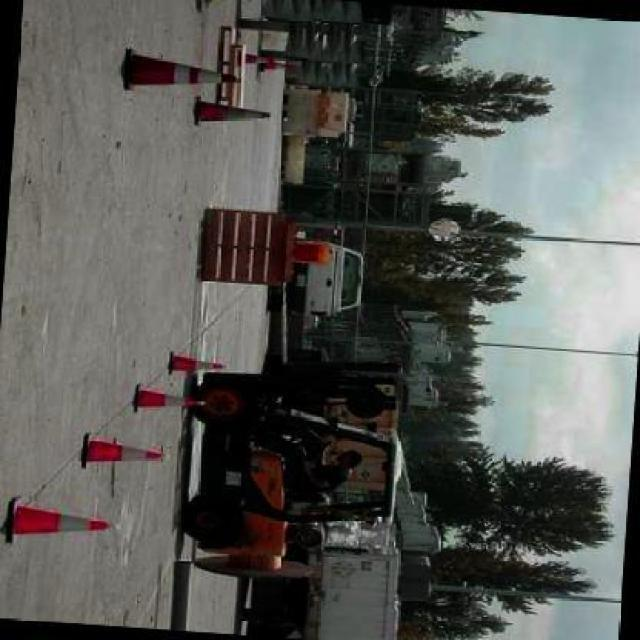forklift: (176, 360, 441, 637)
